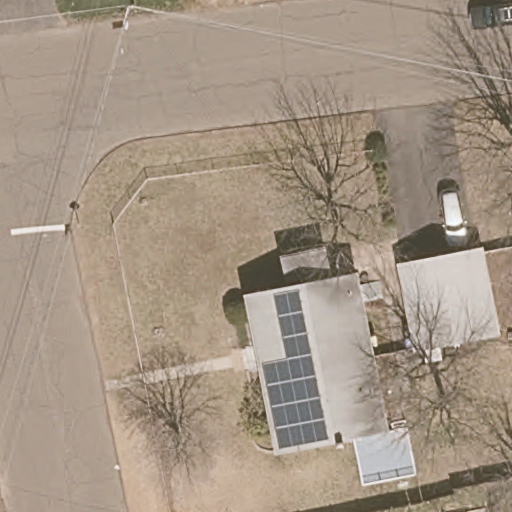DT: (111, 4, 138, 30)
